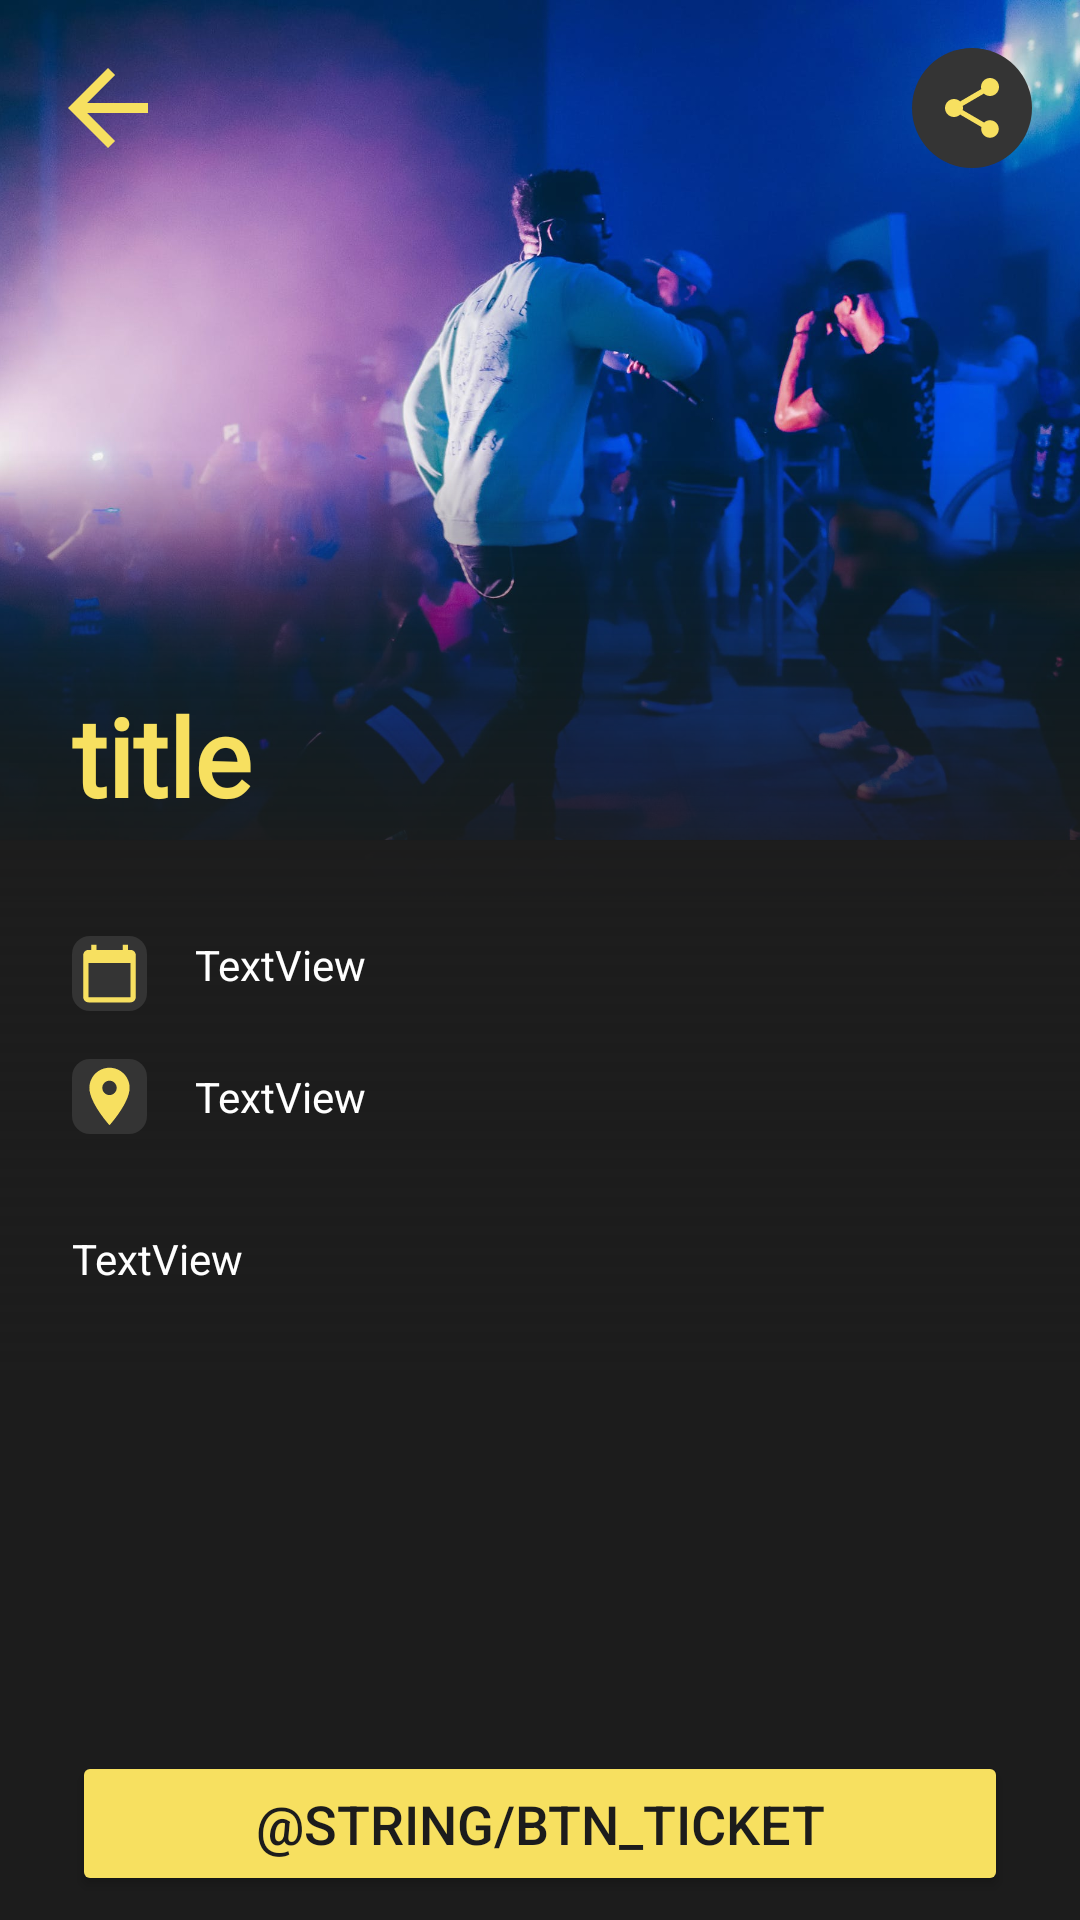

Icons on this 1080w x 1920h Android screen, each with the point to tap as (x=x, y=y):
arrow back: (x=108, y=108)
calendar: (x=109, y=973)
location: (x=109, y=1096)
share: (x=972, y=108)
